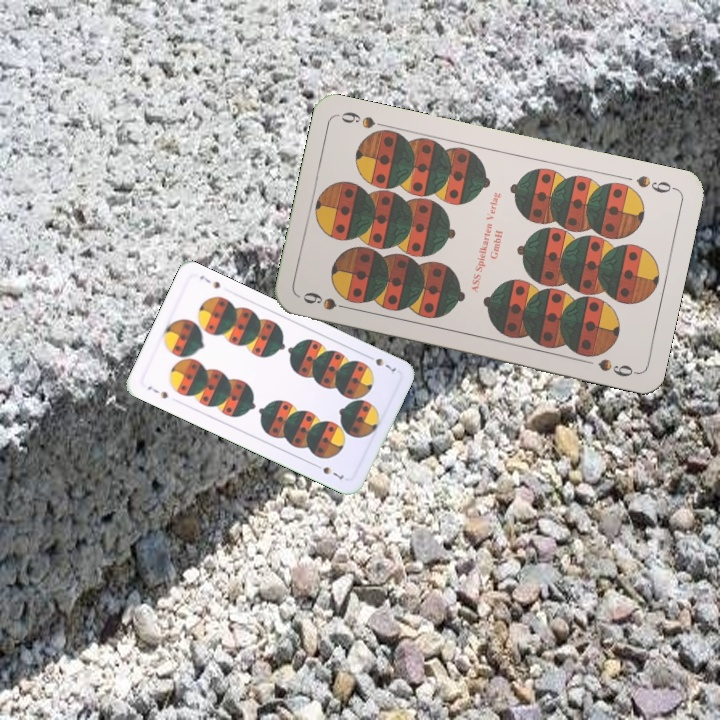S7: (362, 351, 401, 377), (143, 382, 170, 401)
S9: (299, 287, 356, 313), (632, 171, 679, 196)
